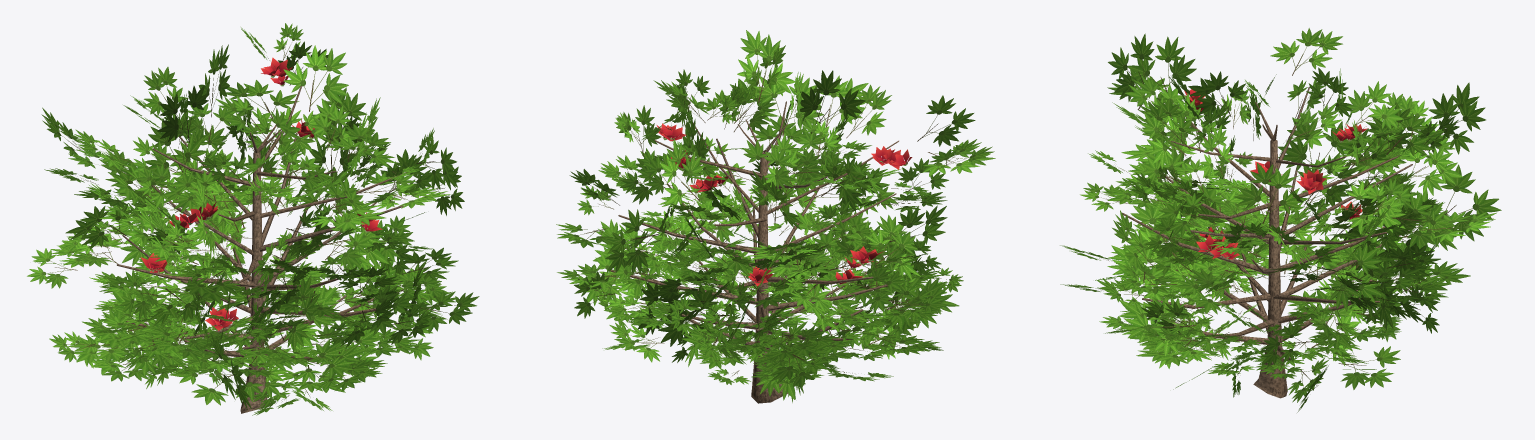
Rendered from simul_lod2.glb.
The picture shows the model from 3 angles, left to right: view 1: azimuth 30°, elevation 25°; view 2: azimuth 150°, elevation 25°; view 3: azimuth 270°, elevation 25°; orthographic projection. The views are drawn at different scales.
Visible parts, largest first — view 1: Simul_Foliage_LOD2_Leaves, Simul_Flowering_LOD2_Branches, Simul_Flowering_LOD2_Flowers, Simul_Flowering_LOD2_Trunk; view 2: Simul_Foliage_LOD2_Leaves, Simul_Flowering_LOD2_Branches, Simul_Flowering_LOD2_Flowers, Simul_Flowering_LOD2_Trunk; view 3: Simul_Foliage_LOD2_Leaves, Simul_Flowering_LOD2_Branches, Simul_Flowering_LOD2_Trunk, Simul_Flowering_LOD2_Flowers.
Part boxes in pixels (box(x1,y1,x2,y2)): Simul_Foliage_LOD2_Leaves: box(27, 23, 479, 415); Simul_Flowering_LOD2_Branches: box(117, 86, 409, 360); Simul_Flowering_LOD2_Flowers: box(140, 57, 382, 330); Simul_Flowering_LOD2_Trunk: box(240, 152, 267, 413); Simul_Foliage_LOD2_Leaves: box(556, 30, 995, 402); Simul_Flowering_LOD2_Branches: box(610, 101, 898, 349); Simul_Flowering_LOD2_Flowers: box(656, 123, 912, 286); Simul_Flowering_LOD2_Trunk: box(751, 153, 788, 403); Simul_Foliage_LOD2_Leaves: box(1060, 28, 1501, 412); Simul_Flowering_LOD2_Branches: box(1122, 87, 1412, 359); Simul_Flowering_LOD2_Trunk: box(1253, 140, 1287, 398); Simul_Flowering_LOD2_Flowers: box(1184, 89, 1367, 259).
Bounding box in the file's own units: 37.35 × 32.15 × 40.09.
3 materials, 2 textured.
